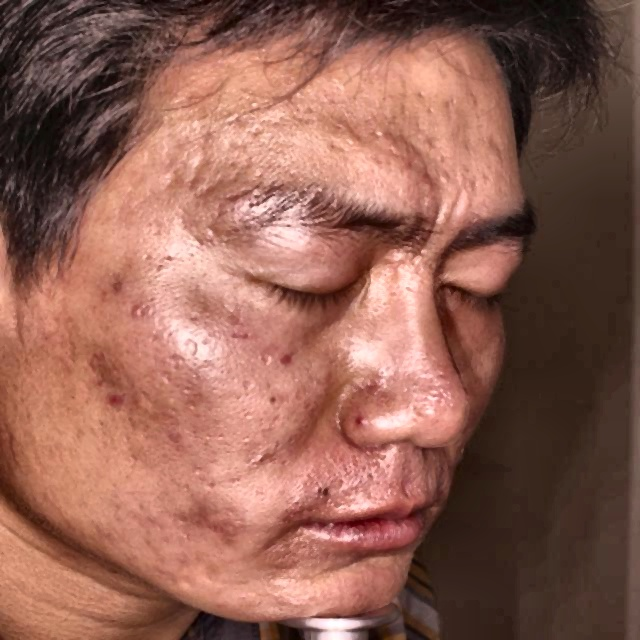comedone: (118, 288, 150, 323), (101, 380, 131, 405)
